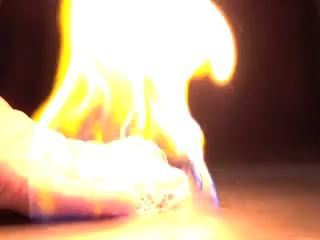Fire: (22, 0, 242, 218)
